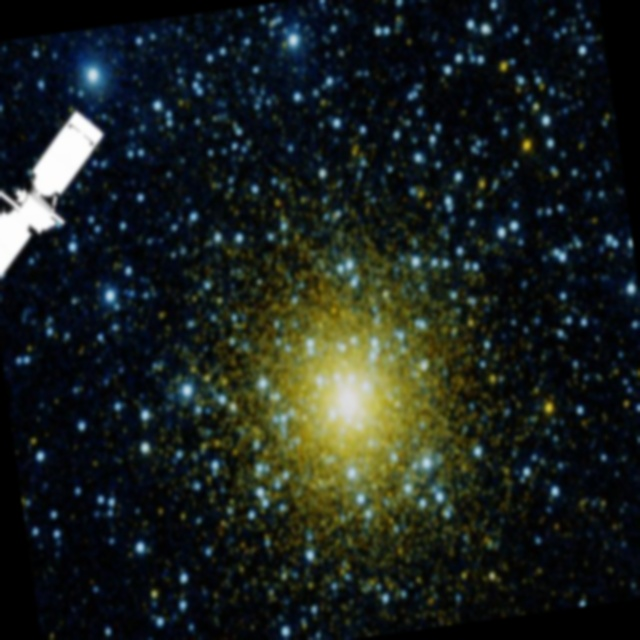medium_debris: (0, 81, 129, 312)
